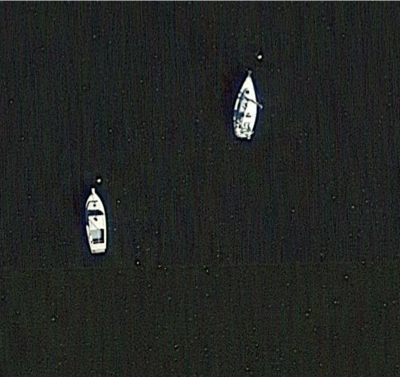boat: (231, 65, 261, 143), (82, 187, 112, 257)
